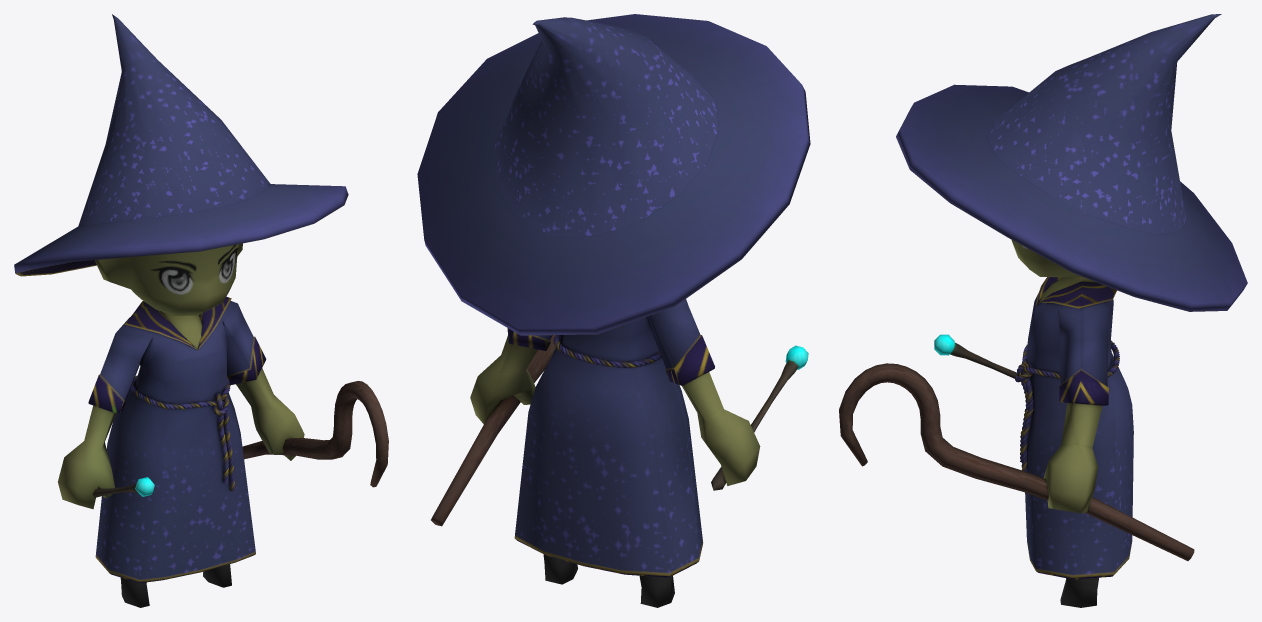
File: Wizard_v2.fbx
3 views of the same model, side by side, from view 1: azimuth 30°, elevation 25°; view 2: azimuth 150°, elevation 25°; view 3: azimuth 270°, elevation 25° (orthographic). The views are drawn at different scales.
Parts seen in each view (by area): view 1: Wizard; view 2: Wizard; view 3: Wizard.
Part boxes in pixels (box(x1,y1,x2,y2)): Wizard: box(14, 14, 388, 607); Wizard: box(417, 14, 810, 607); Wizard: box(839, 14, 1247, 607).
Bounding box in the file's own units: 129 × 219 × 143.
